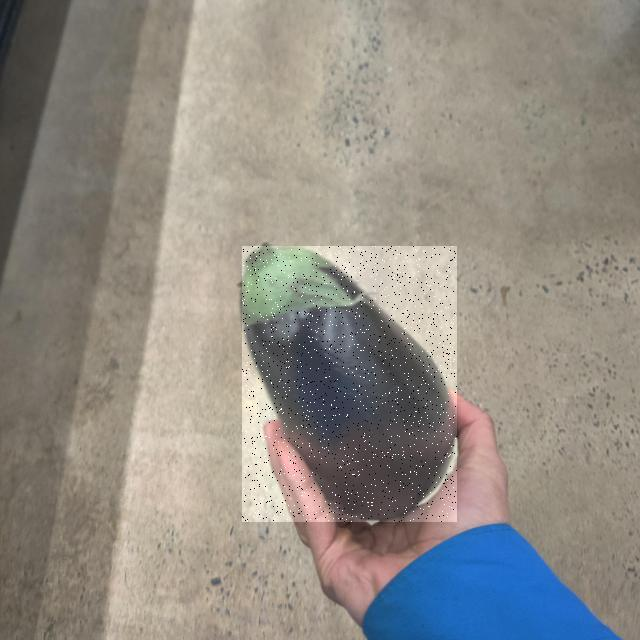Egg Plant: (242, 246, 457, 522)
